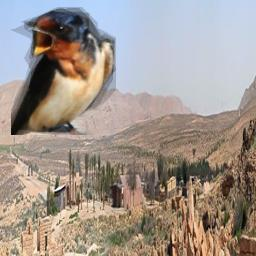Swallow: (11, 7, 116, 135)
